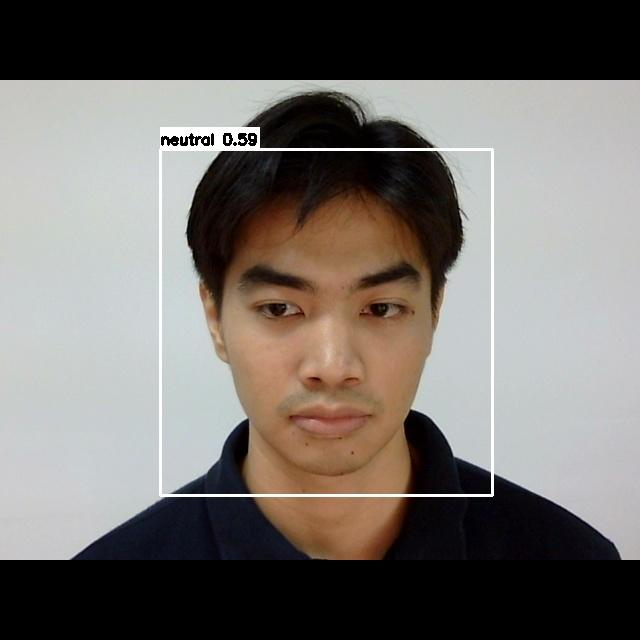Natural: (235, 264, 426, 436)
